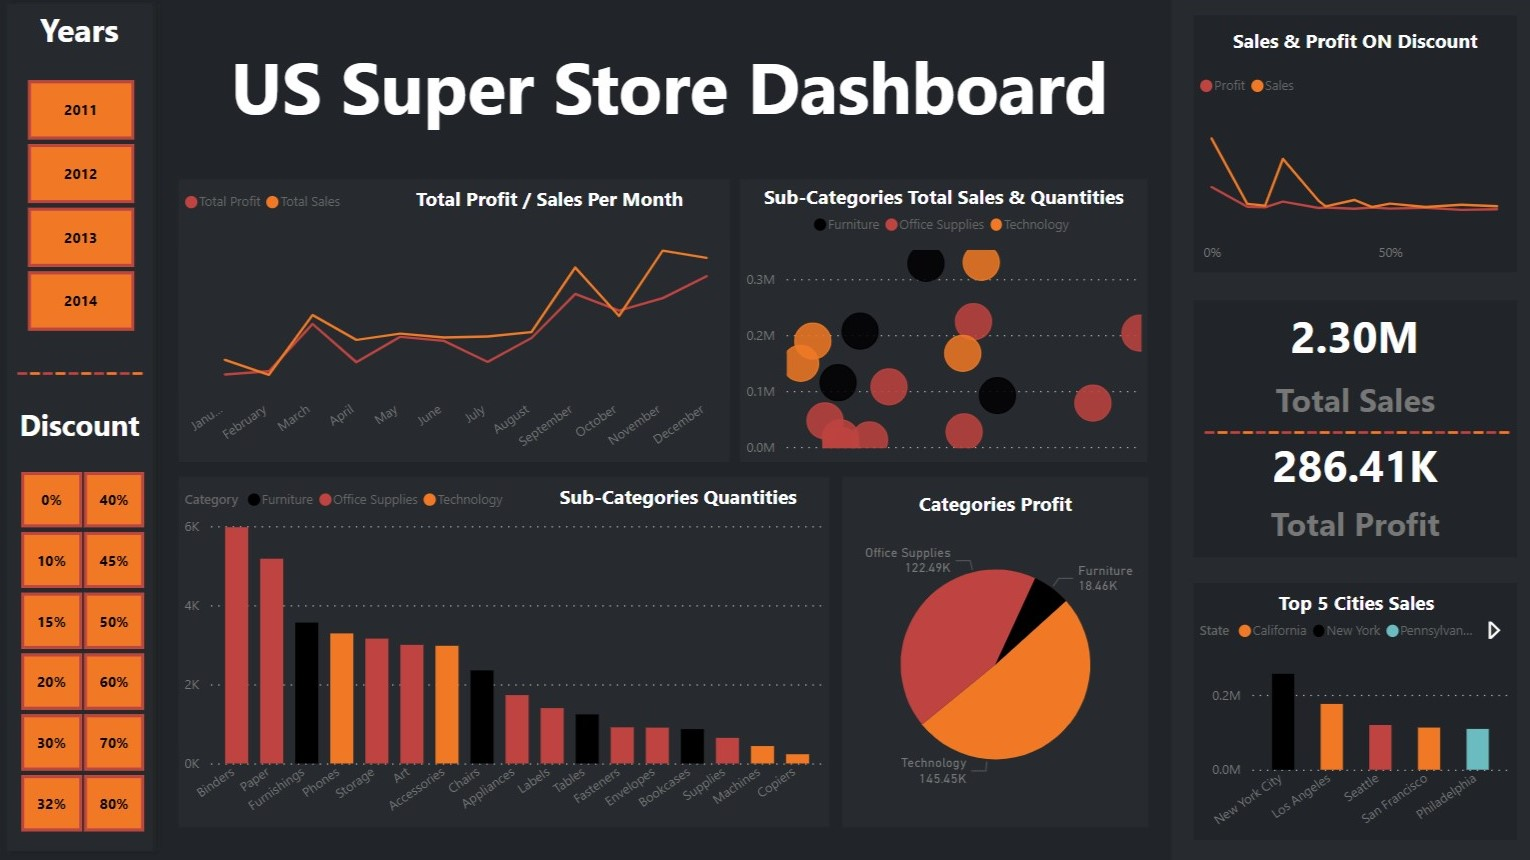

Layout of this report page (visuals, bound fields, positions):
{"tool":"powerbi","page":{"name":"US Super Store Dashboard","canvas":[1280,720],"ordinal":0},"visuals":[{"type":"group","id":"g1","title":"Group 1","box":[0,0,1280.5,720],"z":0},{"type":"shape","box":[973.5,0,307,720],"z":0,"group":"g1"},{"type":"shape","box":[0,0,138,720],"z":1000,"group":"g1"},{"type":"lineChart","fields":{"Y":["Sum(SuperstoreC.Profit)"],"Category":["SuperstoreC.Date.Variation.Date Hierarchy.Month"],"Y2":["Sum(SuperstoreC.Sales)"]},"box":[151.1,154.7,457,234.4],"z":1000},{"type":"shape","box":[992.5,19,267.8,213],"z":2000,"group":"g1"},{"type":"lineStackedColumnComboChart","fields":{"Category":["SuperstoreC.Sub-Category"],"Y":["Sum(SuperstoreC.Quantity)"],"Series":["SuperstoreC.Category"]},"box":[151.1,401.1,539.1,290.4],"z":2000},{"type":"shape","box":[992.5,254.7,267.8,213],"z":3000,"group":"g1"},{"type":"lineStackedColumnComboChart","fields":{"Y":["Sum(SuperstoreC.Sales)"],"Category":["SuperstoreC.City"],"Series":["SuperstoreC.State"]},"box":[992.5,509.4,267.8,192.8],"z":3000},{"type":"scatterChart","fields":{"X":["Sum(SuperstoreC.Quantity)"],"Y":["Sum(SuperstoreC.Sales)"],"Series":["SuperstoreC.Category"],"Category":["SuperstoreC.Sub-Category"]},"box":[616.5,172.6,338,216.6],"z":4000},{"type":"shape","box":[992.5,489.1,267.8,213],"z":4000,"group":"g1"},{"type":"shape","box":[151.1,401.1,539.1,290.4],"z":5000,"group":"g1"},{"type":"pieChart","fields":{"Category":["SuperstoreC.Category"],"Y":["Sum(SuperstoreC.Profit)"]},"box":[701,416.5,253.5,274.9],"z":5000},{"type":"slicer","fields":{"Values":["SuperstoreC.Date.Variation.Date Hierarchy.Year"]},"box":[0.4,65.5,138,221.4],"z":6000},{"type":"shape","box":[701,401.1,253.5,290.4],"z":6000,"group":"g1"},{"type":"lineChart","fields":{"Category":["SuperstoreC.Discount"],"Y":["Sum(SuperstoreC.Profit)","Sum(SuperstoreC.Sales)"]},"box":[992.5,58.3,267.8,173.8],"z":7000},{"type":"shape","box":[151.1,154.7,457,234.4],"z":7000,"group":"g1"},{"type":"shape","box":[616.5,154.7,338,234.4],"z":8000,"group":"g1"},{"type":"slicer","fields":{"Values":["SuperstoreC.Discount"]},"box":[0,395.1,141.6,302.3],"z":8000},{"type":"card","title":"Total","fields":{"Values":["Sum(SuperstoreC.Profit)"]},"box":[992.5,365.4,267.8,51.2],"z":9000},{"type":"card","title":"Total","fields":{"Values":["Sum(SuperstoreC.Sales)"]},"box":[992.5,254.7,267.8,59.5],"z":10000},{"type":"textbox","box":[0.4,7.1,138,51.2],"z":11000},{"type":"textbox","box":[0.4,336.8,138,51.2],"z":12000},{"type":"textbox","box":[141.6,32.1,831.9,94],"z":13000},{"type":"textbox","box":[992.5,416.5,267.8,51.2],"z":14000},{"type":"textbox","box":[992.5,314.2,267.8,51.2],"z":15000},{"type":"textbox","box":[993.7,342.7,267.8,35.7],"z":16000},{"type":"textbox","box":[8.3,294,121.4,35.7],"z":17000},{"type":"textbox","box":[308.2,154.7,299.9,35.7],"z":17001},{"type":"textbox","box":[440.3,401.1,249.9,35.7],"z":17002},{"type":"textbox","box":[701,407,253.5,35.7],"z":17003},{"type":"textbox","box":[616.5,152.3,338,35.7],"z":17004},{"type":"textbox","box":[993.7,489.1,267.8,35.7],"z":17005},{"type":"textbox","box":[992.5,22.6,267.8,35.7],"z":17006}]}

Visuals, with their boxes in screenshot pixels (x1, y1, x2, y2), scaled from the page's 1280x720 canvas onto the 1530x860 screenshot:
"Group 1" group: 0, 0, 1529, 859
shape: 1164, 0, 1529, 859
shape: 0, 0, 165, 859
lineChart - Sum(SuperstoreC.Profit) x SuperstoreC.Date.Variation.Date Hierarchy.Month: 181, 185, 727, 465
shape: 1186, 23, 1506, 277
lineStackedColumnComboChart - SuperstoreC.Sub-Category x Sum(SuperstoreC.Quantity): 181, 479, 825, 826
shape: 1186, 304, 1506, 559
lineStackedColumnComboChart - Sum(SuperstoreC.Sales) x SuperstoreC.City: 1186, 608, 1506, 839
scatterChart - Sum(SuperstoreC.Quantity) x Sum(SuperstoreC.Sales): 737, 206, 1141, 465
shape: 1186, 584, 1506, 839
shape: 181, 479, 825, 826
pieChart - SuperstoreC.Category x Sum(SuperstoreC.Profit): 838, 497, 1141, 826
slicer - SuperstoreC.Date.Variation.Date Hierarchy.Year: 0, 78, 165, 343
shape: 838, 479, 1141, 826
lineChart - SuperstoreC.Discount x Sum(SuperstoreC.Profit): 1186, 70, 1506, 277
shape: 181, 185, 727, 465
shape: 737, 185, 1141, 465
slicer - SuperstoreC.Discount: 0, 472, 169, 833
"Total" card: 1186, 436, 1506, 498
"Total" card: 1186, 304, 1506, 375
textbox: 0, 8, 165, 70
textbox: 0, 402, 165, 463
textbox: 169, 38, 1164, 151
textbox: 1186, 497, 1506, 559
textbox: 1186, 375, 1506, 436
textbox: 1188, 409, 1508, 452
textbox: 10, 351, 155, 394
textbox: 368, 185, 727, 227
textbox: 526, 479, 825, 522
textbox: 838, 486, 1141, 529
textbox: 737, 182, 1141, 225
textbox: 1188, 584, 1508, 627
textbox: 1186, 27, 1506, 70
